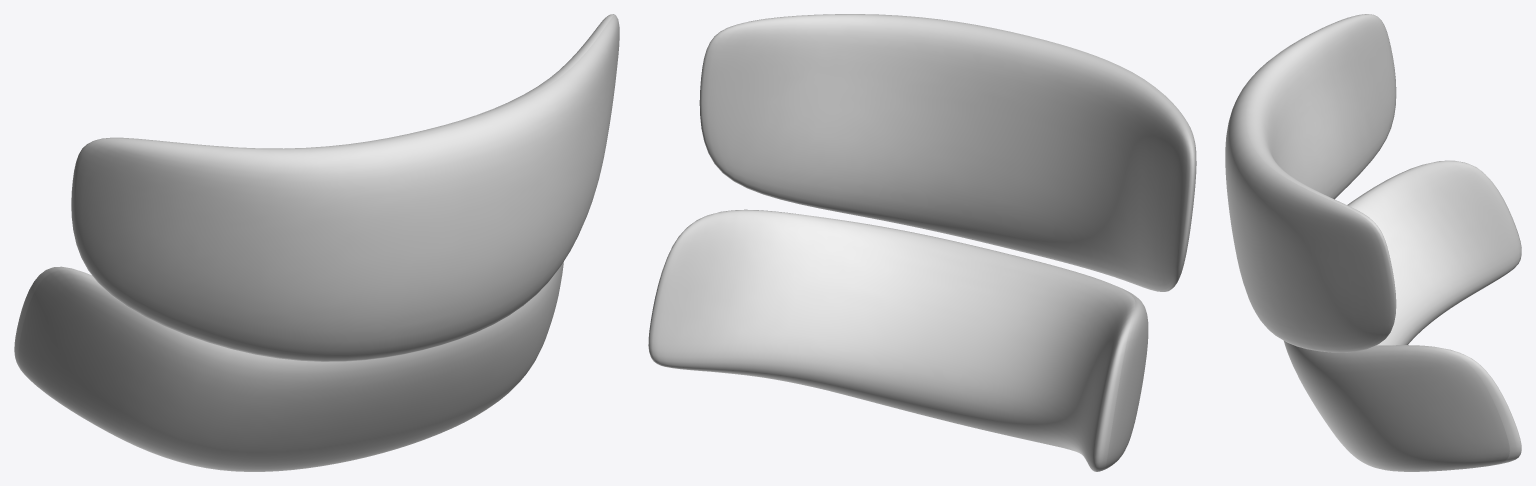
The model's file is teeth1.glb.
3 renders of one model, left to right at view 1: azimuth 30°, elevation 25°; view 2: azimuth 150°, elevation 25°; view 3: azimuth 270°, elevation 25°, orthographic. The views are drawn at different scales.
Parts seen in each view (by area): view 1: teeth.001; view 2: teeth.001; view 3: teeth.001.
Part boxes in pixels (x1,y1,x2,y2): teeth.001: [14, 14, 619, 471]; teeth.001: [648, 14, 1196, 471]; teeth.001: [1225, 14, 1521, 471].
Bounding box in the file's own units: 0.543 × 0.3636 × 0.3143.
Materials: 1 (1 with a texture image).
